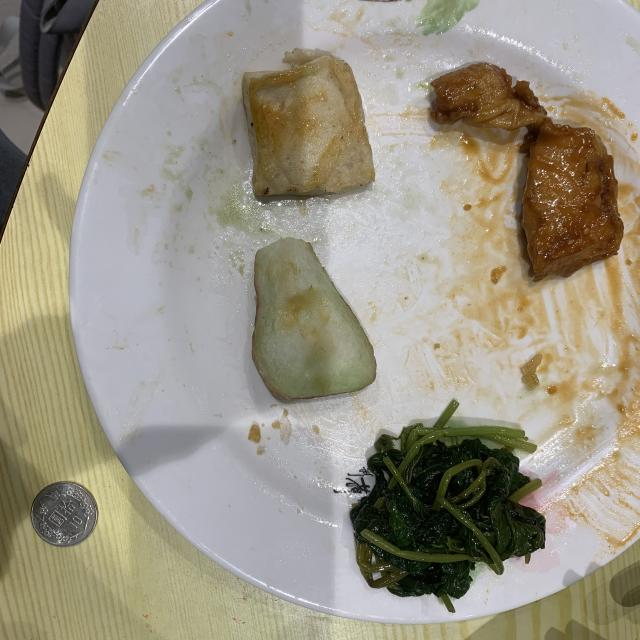coin: (31, 481, 98, 546)
creamy tofu: (431, 62, 624, 281)
creamy tofu -without sauce-: (242, 49, 375, 196)
sweet potato leaves: (350, 400, 545, 612)
